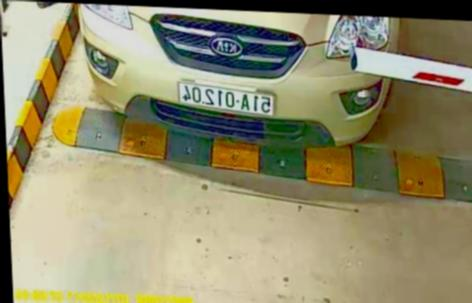License_Plate: (175, 82, 278, 118)
